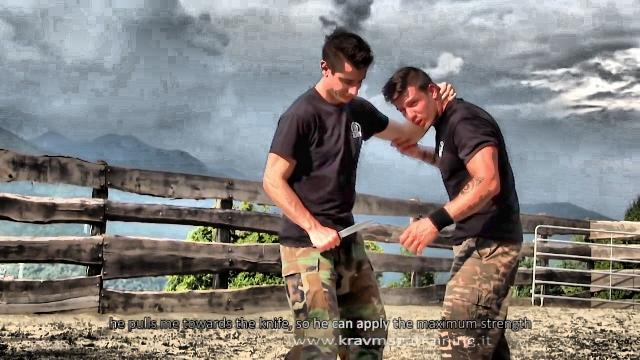knife: (311, 214, 377, 254)
